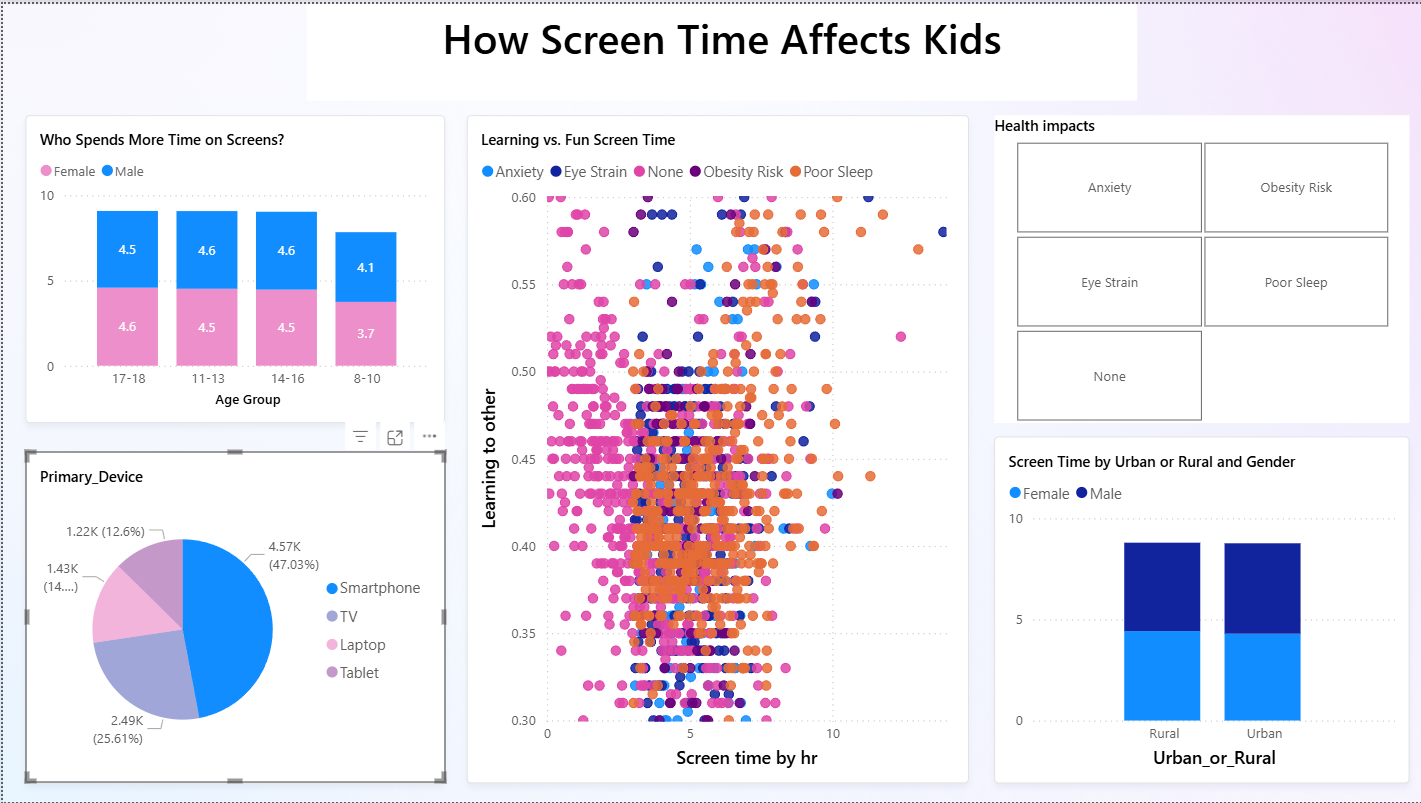

What the dashboard file says about the page in this screenshot:
{"tool":"powerbi","page":{"name":"Page 1","canvas":[1280,720],"ordinal":0},"visuals":[{"type":"columnChart","title":"Who Spends More Time on Screens?","fields":{"Category":["Indian_Kids_Screen_Time.Age Group"],"Y":["Indian_Kids_Screen_Time.Avg Screen Time"],"Series":["Indian_Kids_Screen_Time.Gender"]},"box":[20.3,100.3,378.7,277.3],"z":0},{"type":"pieChart","title":"Primary_Device","fields":{"Category":["Indian_Kids_Screen_Time.Primary_Device"],"Y":["CountNonNull(Indian_Kids_Screen_Time.Primary_Device)"]},"box":[20.6,403.4,378.7,299.1],"z":1000},{"type":"scatterChart","title":"Learning vs. Fun Screen Time","fields":{"X":["Indian_Kids_Screen_Time.Avg_Daily_Screen_Time_hr"],"Y":["Median(Indian_Kids_Screen_Time.Educational_to_Recreational_Ratio)"],"Series":["Indian_Kids_Screen_Time.Health_Impacts.1"]},"box":[418.5,100.2,452.8,602.4],"z":2000},{"type":"columnChart","title":"Screen Time by Urban or Rural and Gender","fields":{"Category":["Indian_Kids_Screen_Time.Urban_or_Rural"],"Y":["Indian_Kids_Screen_Time.Avg Screen Time"],"Series":["Indian_Kids_Screen_Time.Gender"]},"box":[893.3,389.7,374.6,312.9],"z":3000},{"type":"textbox","box":[274,0,748.9,86.8],"z":4000},{"type":"slicer","title":"Health impacts","fields":{"Values":["Indian_Kids_Screen_Time.Health_Impacts.1"]},"box":[893.6,100.4,374.5,277.4],"z":5000}]}

Visuals, with their boxes in screenshot pixels (x1, y1, x2, y2), scaled from the page's 1280x720 canvas onto the 1421x803 screenshot:
"Who Spends More Time on Screens?" columnChart: bbox=[23, 112, 443, 421]
"Primary_Device" pieChart: bbox=[23, 450, 443, 783]
"Learning vs. Fun Screen Time" scatterChart: bbox=[465, 112, 967, 784]
"Screen Time by Urban or Rural and Gender" columnChart: bbox=[992, 435, 1408, 784]
textbox: bbox=[304, 0, 1136, 97]
"Health impacts" slicer: bbox=[992, 112, 1408, 421]
